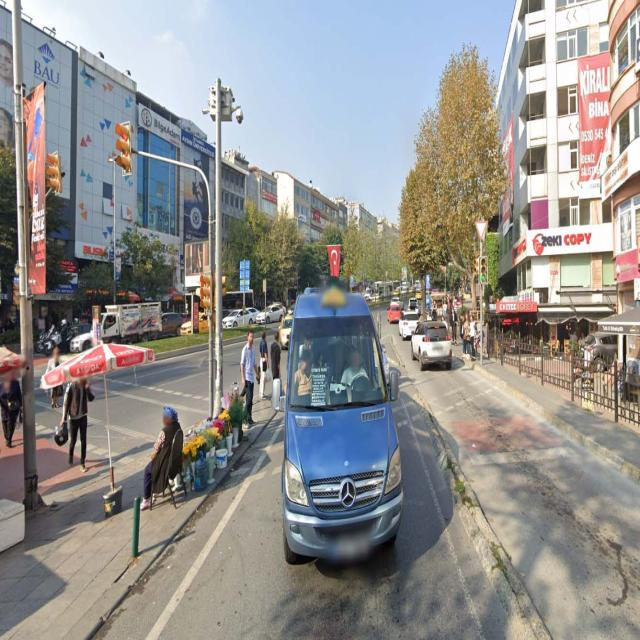yesil: (479, 256, 487, 284)
